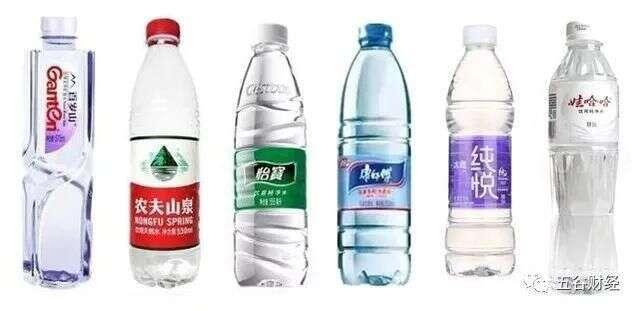bottle: (542, 15, 626, 297), (16, 11, 98, 293), (122, 14, 204, 291), (231, 19, 313, 288), (333, 20, 414, 288), (441, 21, 518, 283)
